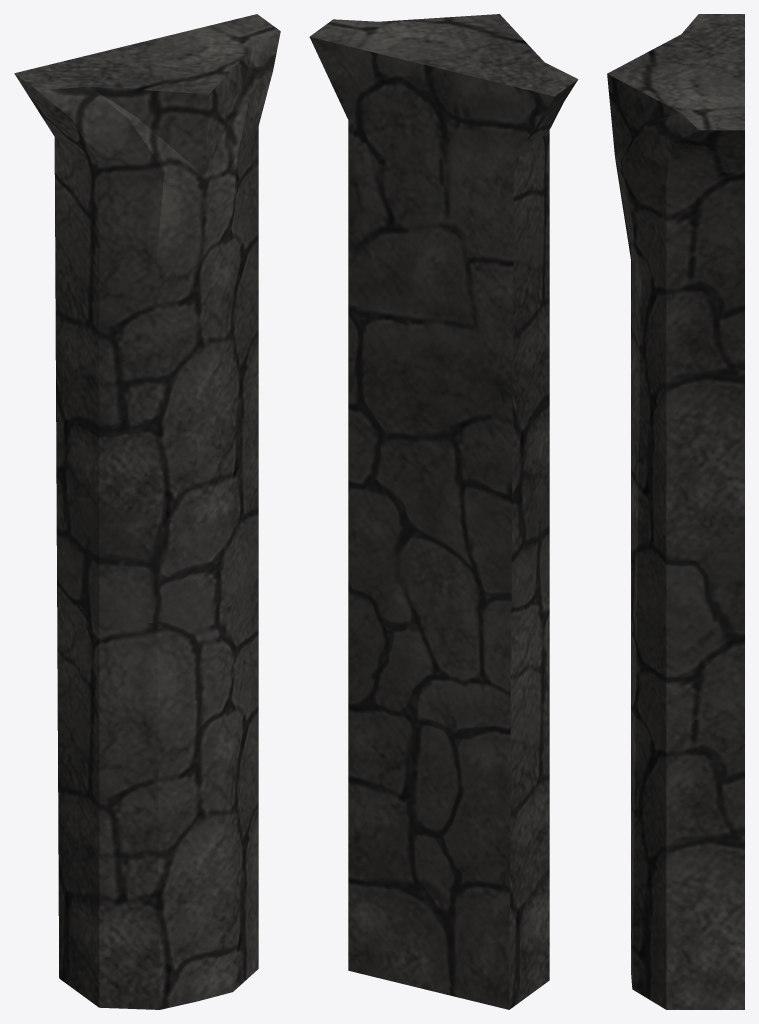
Rendered from stone_pillar_4.fbx.
3 renders of one model, left to right at view 1: azimuth 30°, elevation 25°; view 2: azimuth 150°, elevation 25°; view 3: azimuth 270°, elevation 25°, orthographic. The views are drawn at different scales.
Parts seen in each view (by area): view 1: ruraltown_house_standard.006; view 2: ruraltown_house_standard.006; view 3: ruraltown_house_standard.006.
Boxes of the visible parts, bbox=[...] form: ruraltown_house_standard.006: bbox=[14, 14, 280, 1009]; ruraltown_house_standard.006: bbox=[309, 14, 578, 1009]; ruraltown_house_standard.006: bbox=[607, 14, 744, 1009].
Size of the model in its own units: 111 by 400 by 55.57.
